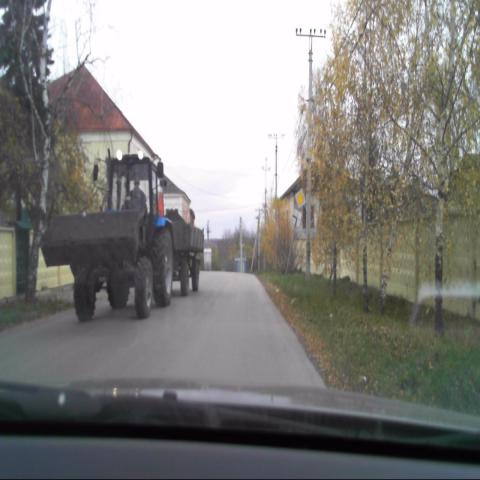2_1: (293, 188, 305, 208)
8_13: (291, 210, 301, 227)
